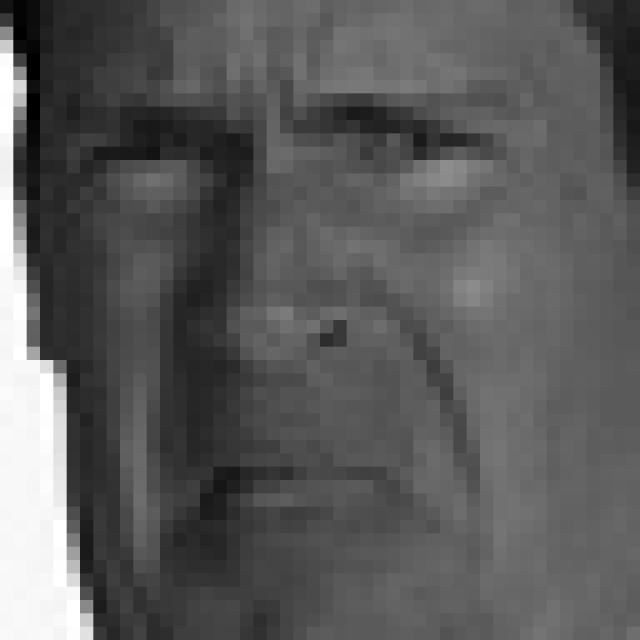disgust: (70, 88, 539, 570)
